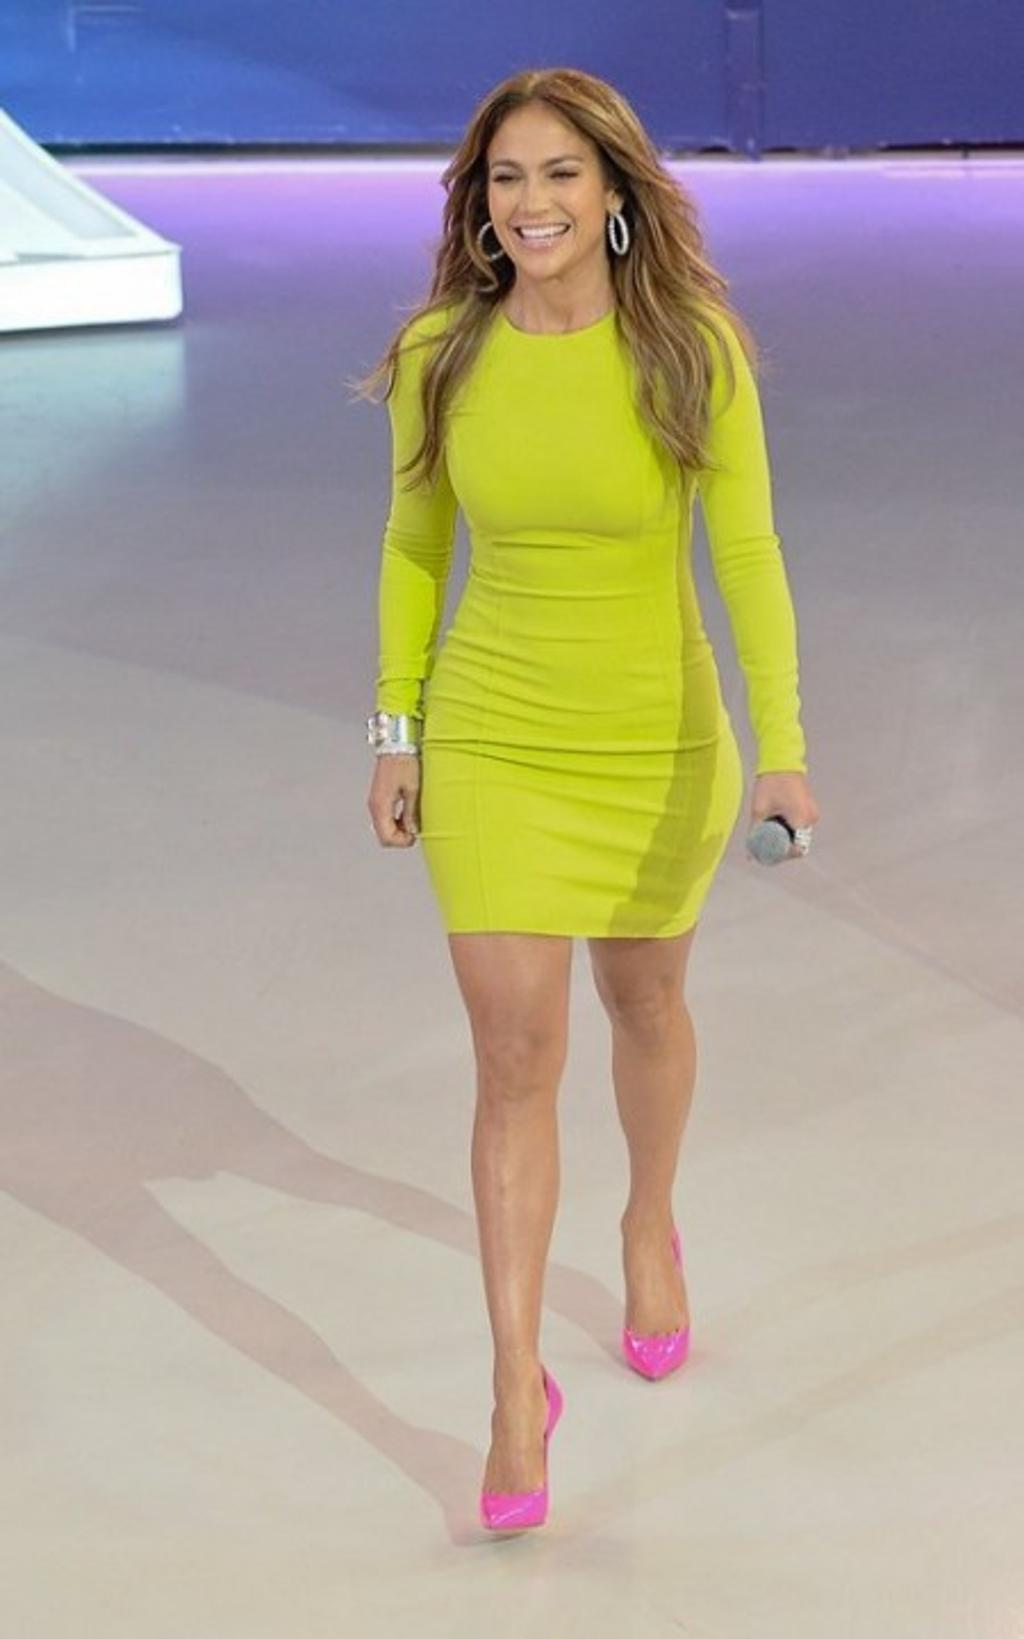face: (481, 110, 603, 273)
